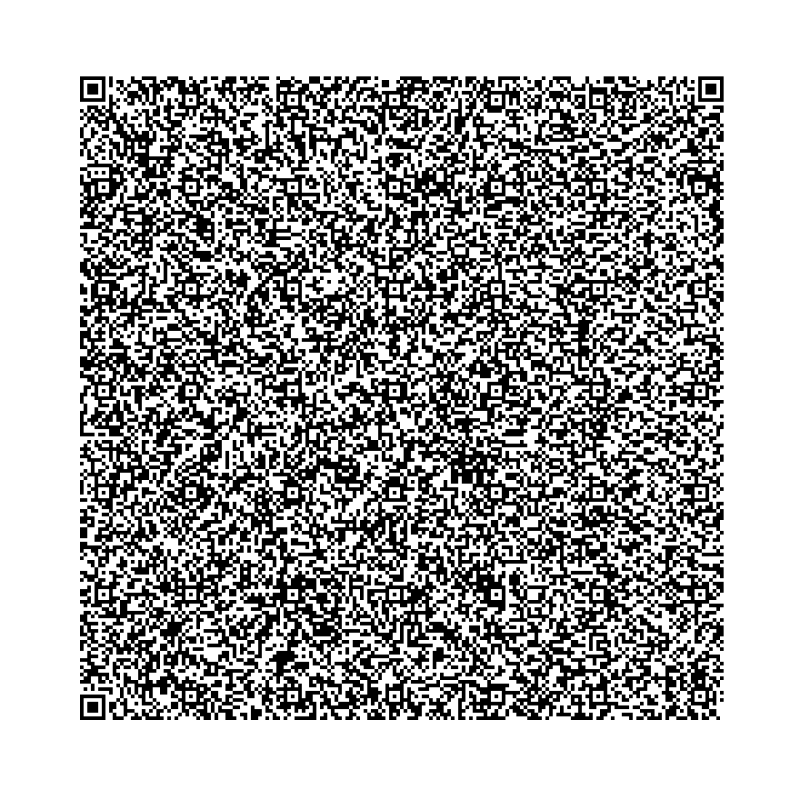QR: (84, 77, 722, 715)
